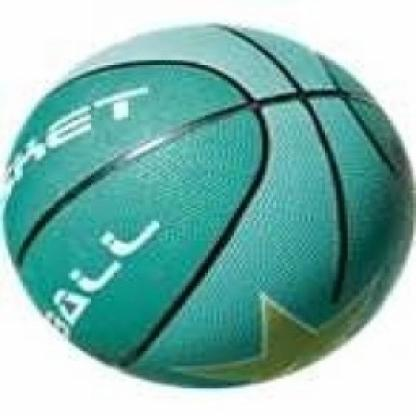basketball: (0, 12, 416, 396)
